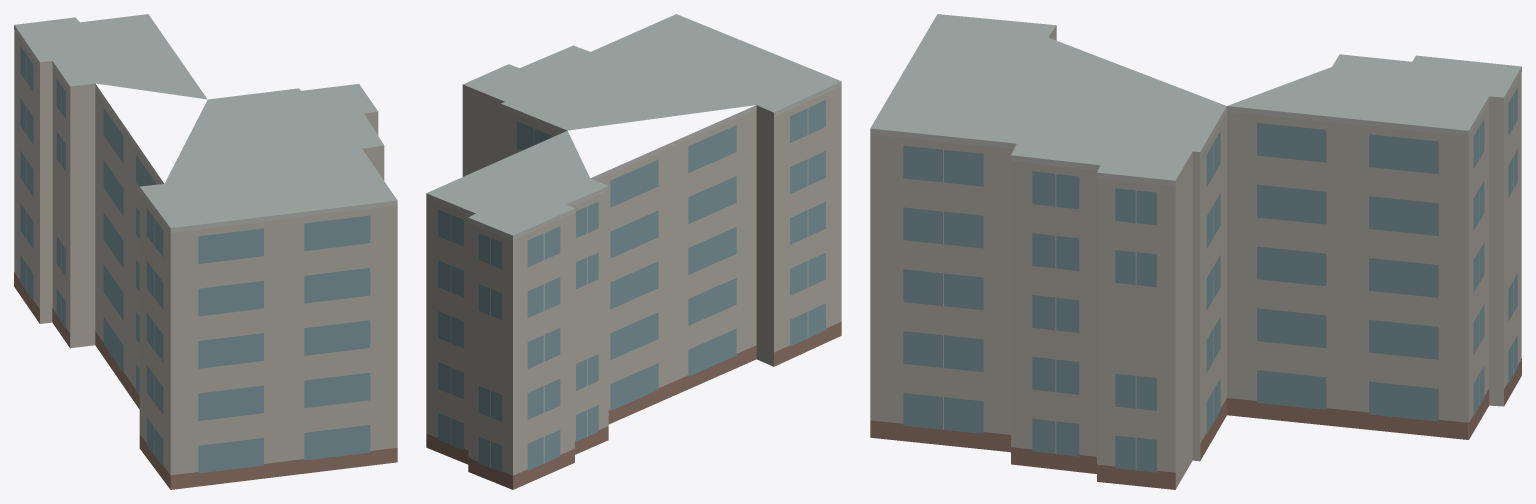
Rendered from survey-upis-32682438.glb.
3 views of the same model, side by side, from view 1: azimuth 30°, elevation 25°; view 2: azimuth 150°, elevation 25°; view 3: azimuth 270°, elevation 25° (orthographic). The views are drawn at different scales.
Visible parts, largest first — view 1: survey-upis-32682438.tmp; view 2: survey-upis-32682438.tmp; view 3: survey-upis-32682438.tmp.
Boxes of the visible parts, x1,y1,x2,y2 form: survey-upis-32682438.tmp: (14, 14, 397, 489); survey-upis-32682438.tmp: (426, 14, 841, 489); survey-upis-32682438.tmp: (870, 14, 1521, 489).
Size of the model in its own units: 15.39 by 13.3 by 25.41.
